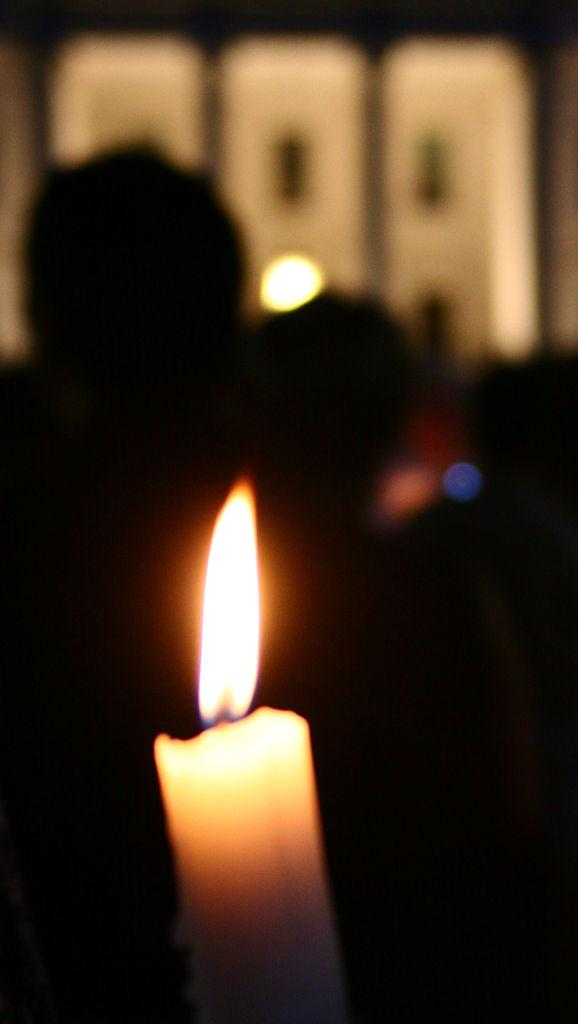fire: (195, 508, 268, 702)
